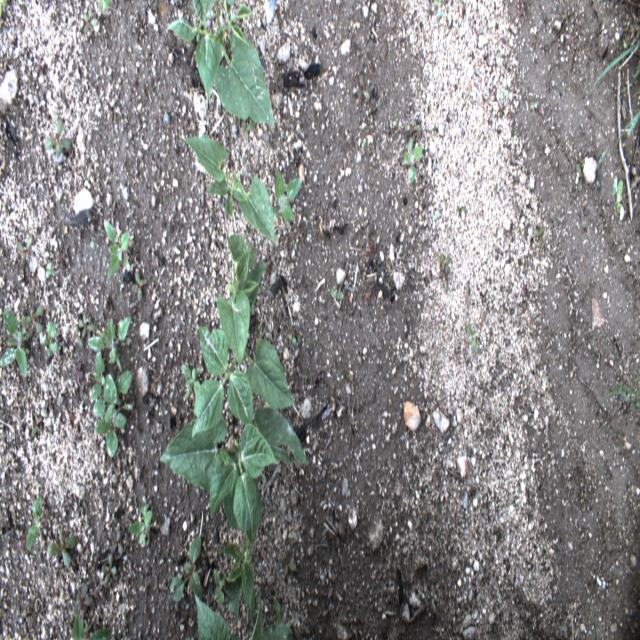crop: (159, 406, 309, 546), (165, 0, 275, 128), (192, 325, 296, 438), (178, 133, 276, 247), (217, 235, 267, 365), (194, 590, 294, 640), (219, 518, 256, 624)
weed: (585, 39, 640, 100), (88, 316, 132, 374), (168, 535, 202, 602), (265, 170, 302, 230), (93, 369, 132, 424), (0, 310, 30, 379), (94, 403, 126, 457), (104, 219, 131, 280), (603, 367, 639, 408), (612, 110, 640, 157), (127, 502, 153, 550), (44, 117, 72, 158), (47, 532, 78, 568), (25, 495, 45, 549), (15, 232, 39, 276), (401, 136, 423, 183), (72, 614, 111, 640), (274, 598, 296, 639), (89, 351, 106, 404), (22, 301, 46, 334), (182, 362, 202, 400), (73, 582, 94, 618), (611, 174, 625, 222), (44, 318, 58, 364), (106, 527, 125, 557), (76, 310, 95, 339), (278, 551, 297, 580), (131, 270, 148, 302), (404, 115, 423, 143), (100, 554, 116, 586), (466, 322, 481, 354), (213, 570, 225, 608), (82, 8, 99, 34), (356, 72, 371, 101), (439, 262, 453, 292), (240, 116, 256, 141), (433, 252, 450, 272), (112, 402, 133, 418), (72, 323, 84, 349), (532, 225, 546, 247), (31, 414, 43, 439), (57, 249, 70, 271), (477, 310, 487, 338), (312, 367, 326, 384), (575, 163, 583, 192), (493, 523, 505, 541), (293, 324, 302, 346), (329, 286, 344, 299), (629, 175, 640, 192), (464, 284, 471, 310), (45, 261, 54, 281), (196, 18, 203, 43), (99, 0, 111, 14), (0, 0, 8, 20), (499, 86, 509, 102), (455, 205, 467, 218), (348, 372, 355, 394), (18, 327, 27, 343), (287, 333, 297, 347), (430, 0, 438, 13), (432, 210, 442, 220), (360, 136, 367, 150), (436, 0, 441, 18), (21, 346, 29, 356), (595, 620, 599, 639), (393, 120, 402, 127)
